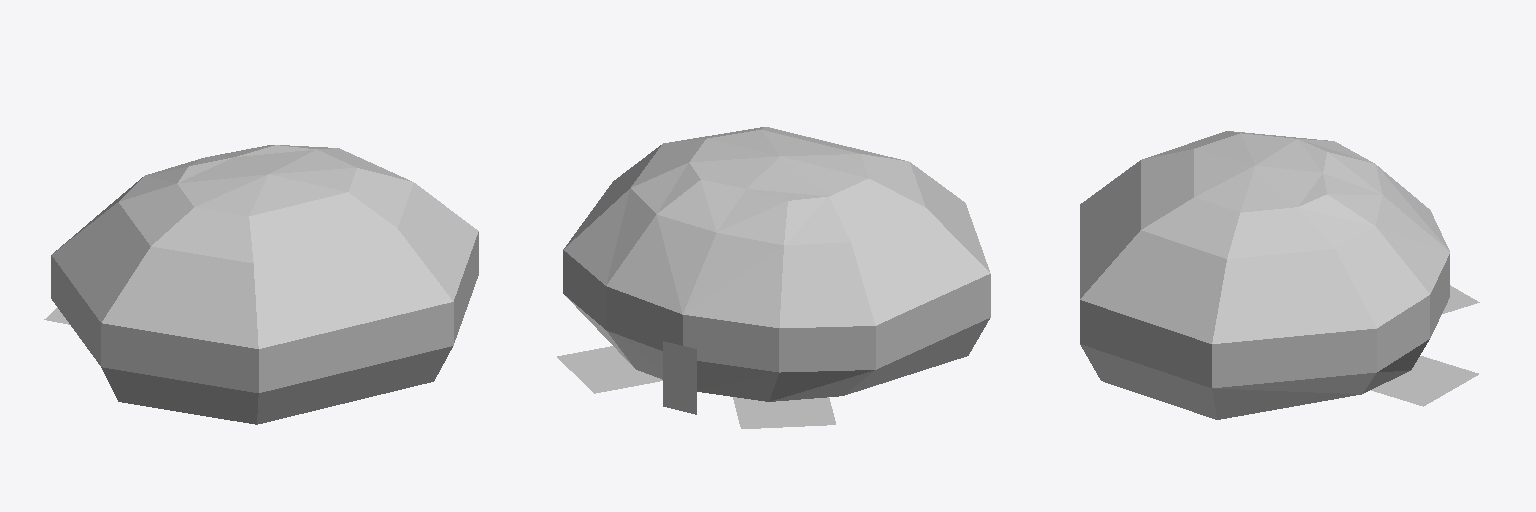
Rendered from poca.obj.
3 renders of one model, left to right at view 1: azimuth 30°, elevation 25°; view 2: azimuth 150°, elevation 25°; view 3: azimuth 270°, elevation 25°, orthographic.
Visible parts, largest first — view 1: poca; view 2: poca, tie; view 3: poca.
Part boxes in pixels (x1,y1,x2,y2): poca: (44, 145, 478, 424); poca: (557, 127, 990, 428); tie: (663, 341, 696, 414); poca: (1080, 131, 1479, 419).
Size of the model in its own units: 2.2 by 1.01 by 2.02.